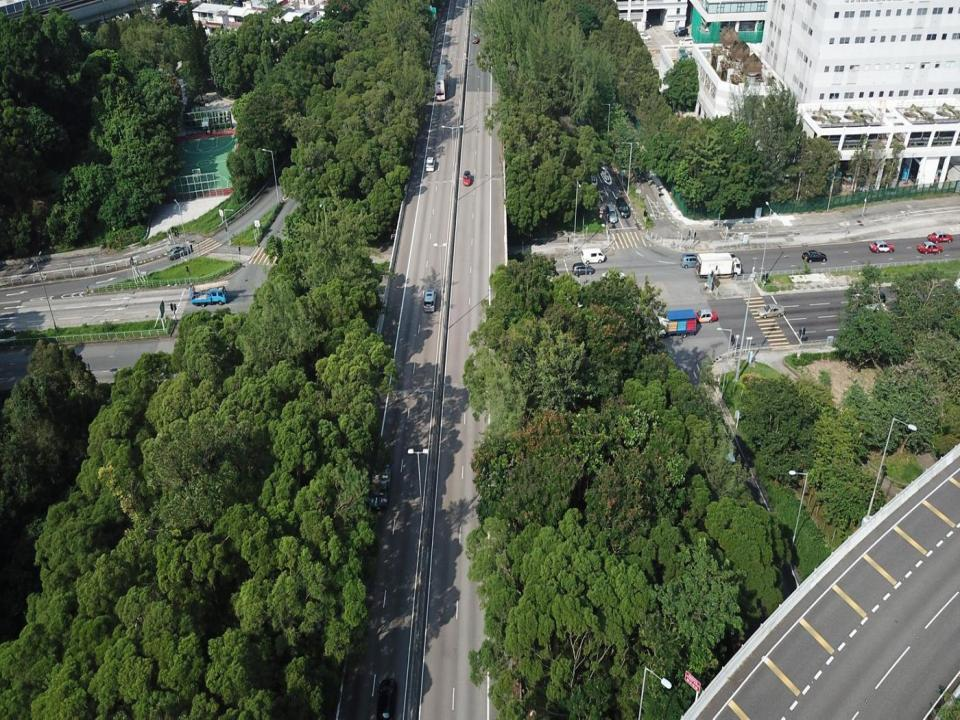bus: (435, 64, 448, 101)
car: (376, 677, 398, 719), (854, 290, 886, 310), (757, 303, 785, 319), (916, 240, 944, 255), (692, 308, 719, 323), (572, 261, 595, 277), (869, 240, 895, 254), (927, 230, 953, 244), (167, 245, 191, 260), (802, 250, 828, 263), (423, 288, 437, 312), (604, 203, 618, 223), (425, 156, 436, 172), (463, 170, 472, 186), (472, 33, 479, 44)
truck: (368, 456, 394, 509), (654, 308, 697, 338), (695, 252, 742, 278), (189, 283, 229, 307)
van: (581, 248, 605, 265), (616, 195, 630, 218), (680, 253, 700, 269)
